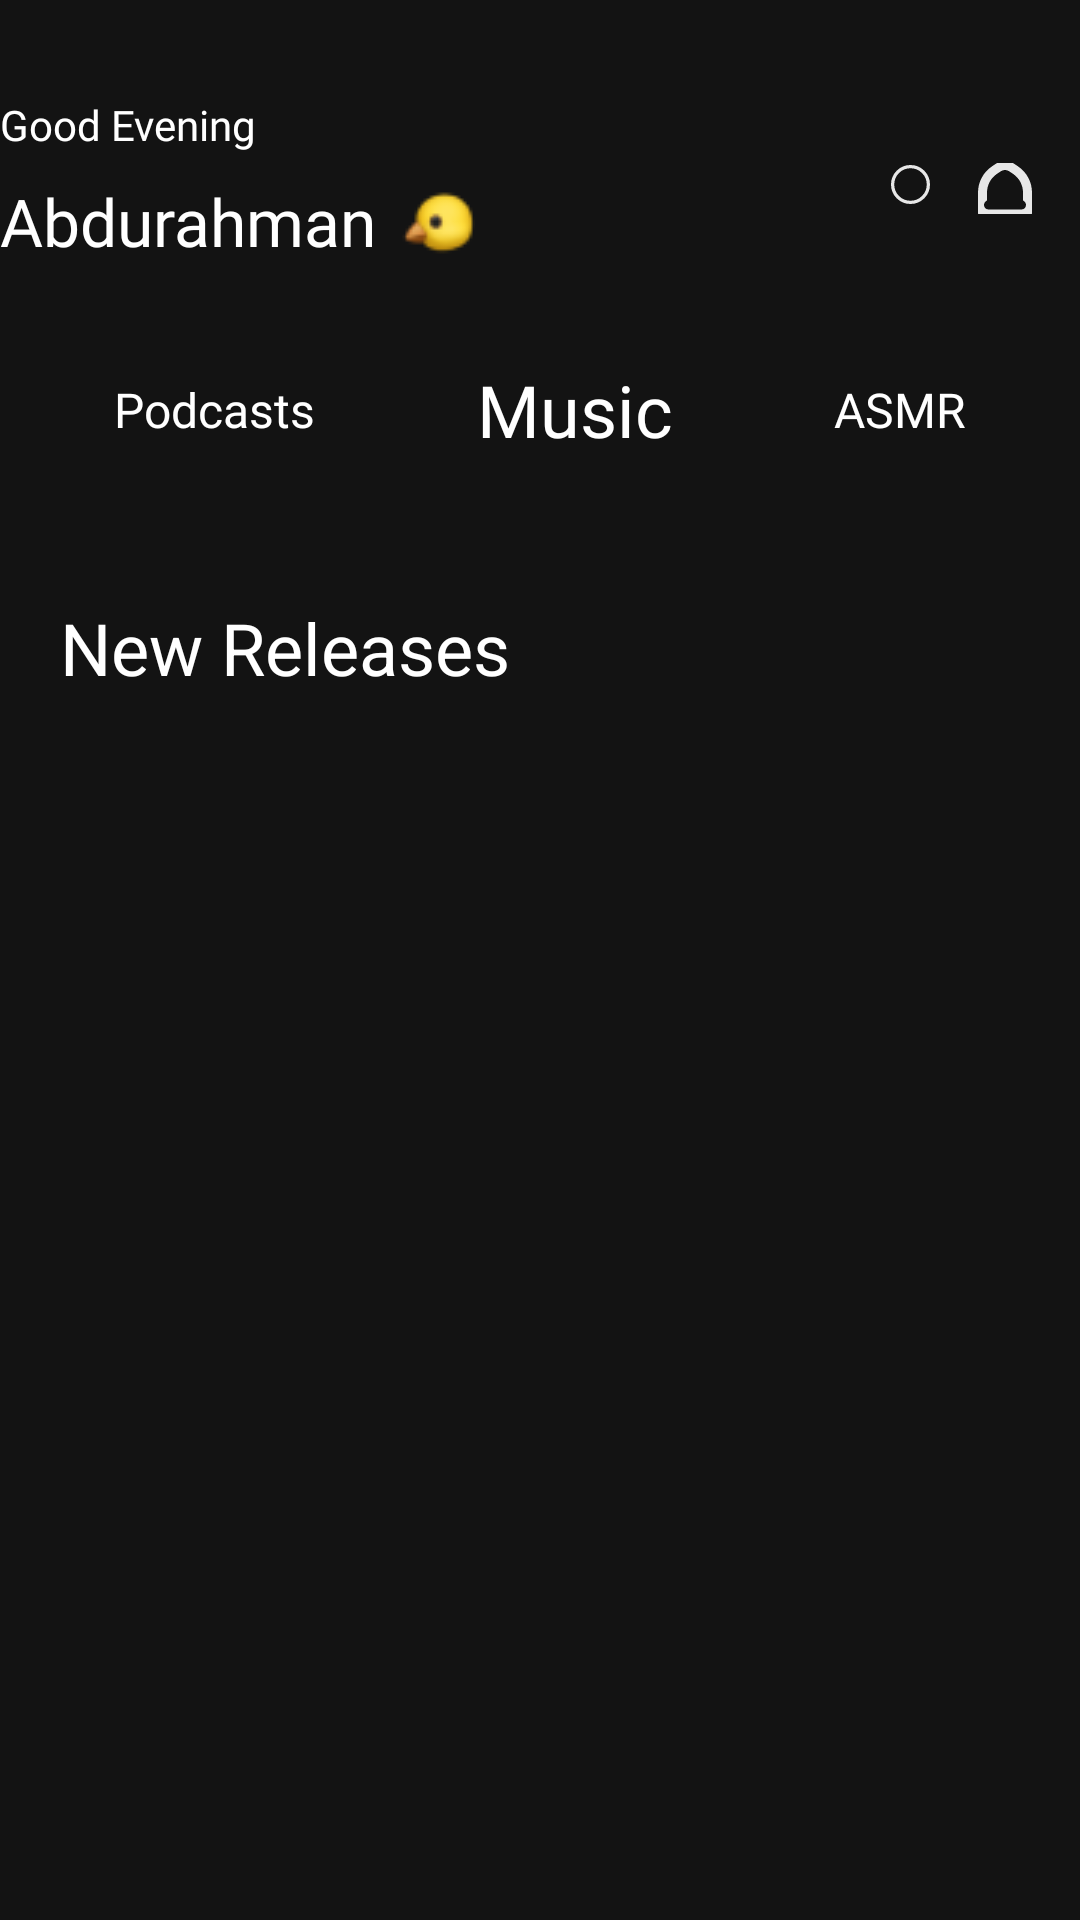

Icon bounding boxes for this 1080w x 1920h phone screenshot, format (x1, y1, x2, y2):
baby chick: (405, 192, 473, 252)
